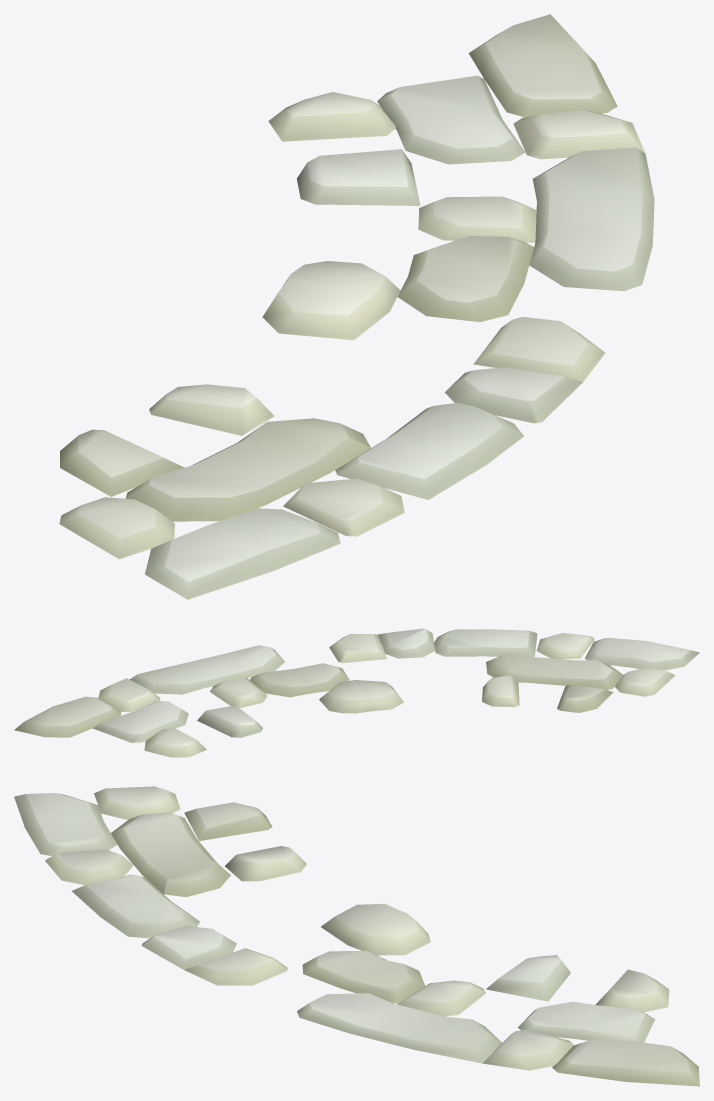
The model's file is SM_StoneTiles_01.fbx.
3 renders of one model, top to bottom at view 1: azimuth 30°, elevation 25°; view 2: azimuth 150°, elevation 25°; view 3: azimuth 270°, elevation 25°, orthographic. The views are drawn at different scales.
Parts seen in each view (by area): view 1: SM_StoneTiles_01; view 2: SM_StoneTiles_01; view 3: SM_StoneTiles_01.
Boxes of the visible parts, bbox=[...] form: SM_StoneTiles_01: bbox=[59, 14, 654, 599]; SM_StoneTiles_01: bbox=[14, 628, 699, 757]; SM_StoneTiles_01: bbox=[14, 786, 699, 1086].
Bounding box in the file's own units: 2842 × 62.9 × 2782.
